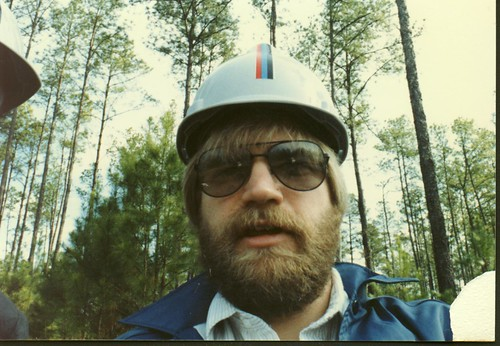person hardhat: (176, 44, 347, 308)
